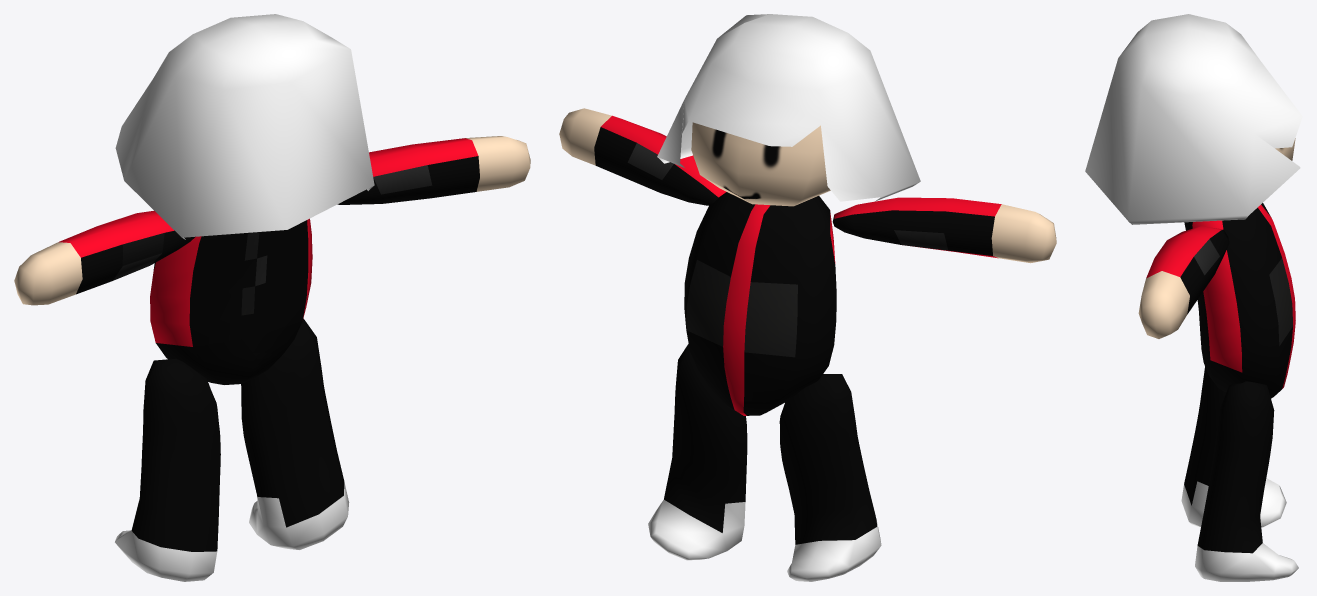
Rendered from Character.gltf.
3 renders of one model, left to right at view 1: azimuth 30°, elevation 25°; view 2: azimuth 150°, elevation 25°; view 3: azimuth 270°, elevation 25°, orthographic. The views are drawn at different scales.
Parts seen in each view (by area): view 1: Character; view 2: Character; view 3: Character.
Boxes of the visible parts, x1,y1,x2,y2 form: Character: (14,14,530,581); Character: (559,14,1056,581); Character: (1085,14,1302,581).
Size of the model in its own units: 1.67 by 1.69 by 0.6412.
Materials: 2 (1 with a texture image).
